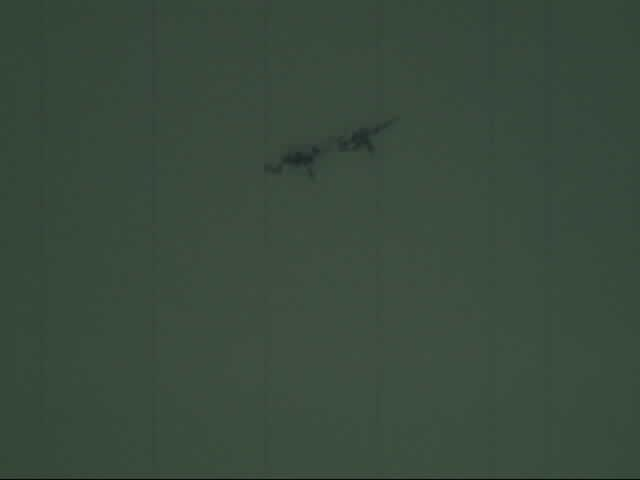PIQ PARTICLE: (264, 110, 406, 181)
